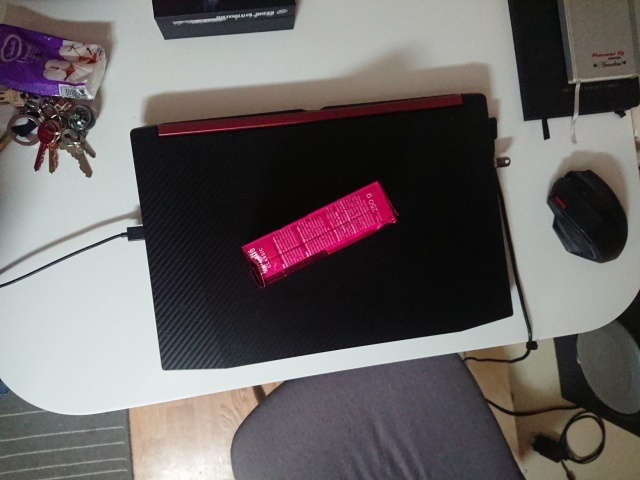Barcaffe Classic Original 225g: (239, 178, 402, 292)
